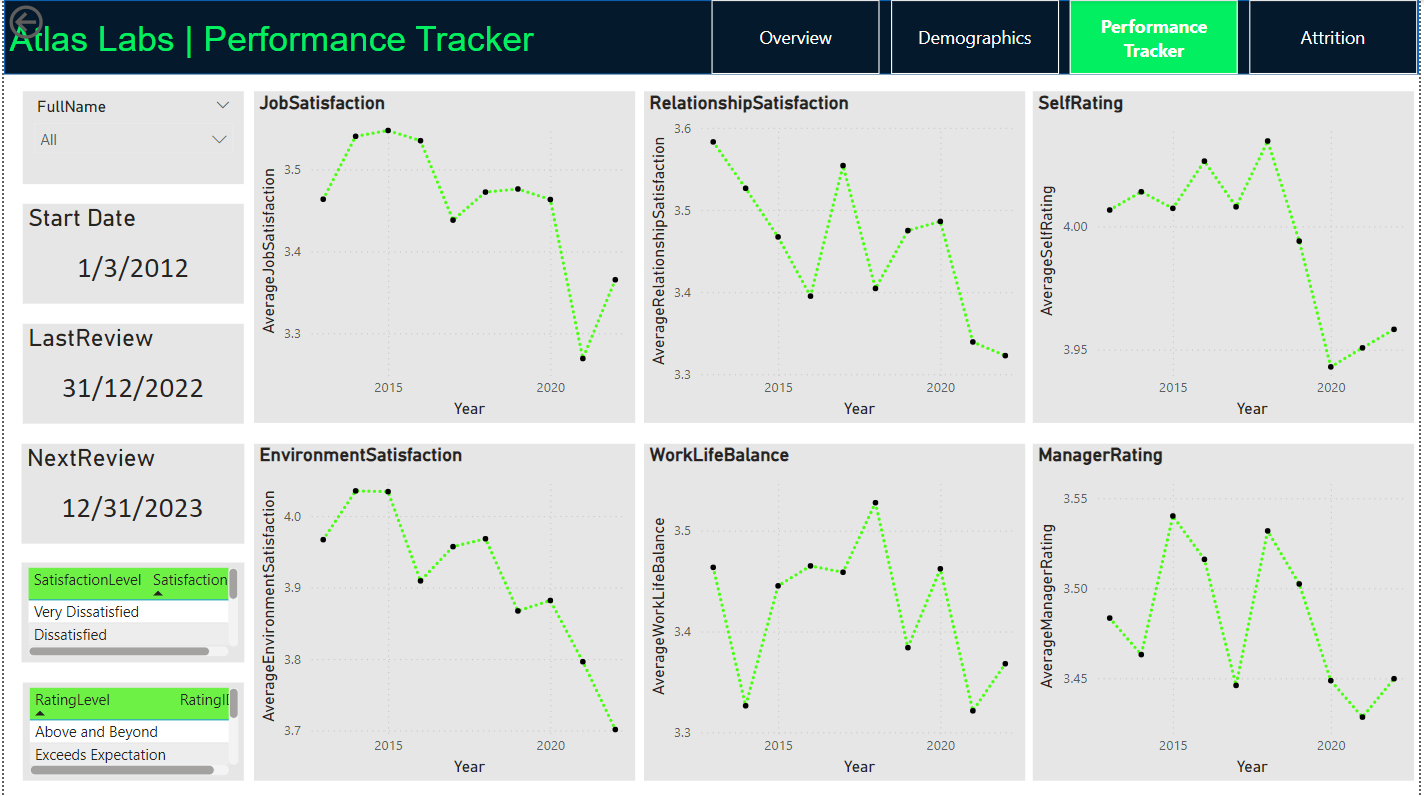

What the dashboard file says about the page in this screenshot:
{"tool":"powerbi","page":{"name":"Performance Tracker","canvas":[1280,720],"ordinal":2},"visuals":[{"type":"shape","box":[0,0,1280,67.5],"z":0},{"type":"textbox","box":[0,12.5,581.2,55],"z":1000},{"type":"pageNavigator","box":[640,0,640,67.5],"z":2000},{"type":"slicer","fields":{"Values":["Employee.FullName"]},"box":[17.5,82.5,200,83.8],"z":3000},{"type":"card","title":"Start Date","fields":{"Values":["Min(Employee.HireDate)"]},"box":[17.5,184.5,200,90],"z":4000},{"type":"card","title":"LastReview","fields":{"Values":["FactPerformanceRating.LastReviewDate"]},"box":[17.5,292.8,200,90],"z":5000},{"type":"actionButton","box":[0,0,100,40],"z":6000},{"type":"card","title":"NextReview","fields":{"Values":["FactPerformanceRating.NextReview"]},"box":[16.2,401,201.2,90],"z":7000},{"type":"lineChart","title":"JobSatisfaction ","fields":{"Y":["FactPerformanceRating.AverageJobSatisfaction"],"Category":["Date.Date.Variation.Date Hierarchy.Year"]},"box":[226.2,82.5,345,300],"z":8000},{"type":"lineChart","title":"RelationshipSatisfaction","fields":{"Category":["Date.Date.Variation.Date Hierarchy.Year"],"Y":["FactPerformanceRating.AverageRelationshipSatisfaction"]},"box":[578.8,82.5,345,300],"z":9000},{"type":"lineChart","title":"SelfRating","fields":{"Category":["Date.Date.Variation.Date Hierarchy.Year"],"Y":["FactPerformanceRating.AverageSelfRating"]},"box":[930,82.5,345,300],"z":10000},{"type":"lineChart","title":"EnvironmentSatisfaction","fields":{"Category":["Date.Date.Variation.Date Hierarchy.Year"],"Y":["FactPerformanceRating.AverageEnvironmentSatisfaction"]},"box":[226.2,401.2,345,305],"z":11000},{"type":"lineChart","title":"WorkLifeBalance","fields":{"Category":["Date.Date.Variation.Date Hierarchy.Year"],"Y":["FactPerformanceRating.AverageWorkLifeBalance"]},"box":[578.8,401.2,345,305],"z":12000},{"type":"lineChart","title":"ManagerRating","fields":{"Category":["Date.Date.Variation.Date Hierarchy.Year"],"Y":["FactPerformanceRating.AverageManagerRating"]},"box":[930,401.2,345,305],"z":13000},{"type":"tableEx","fields":{"Values":["SatisfiedLevel.SatisfactionLevel","SatisfiedLevel.SatisfactionID"]},"box":[16.2,509.2,201.2,90],"z":14000},{"type":"tableEx","fields":{"Values":["RatingLevel.RatingLevel","RatingLevel.RatingID"]},"box":[17.5,617.5,200,88.8],"z":15000}]}

Visuals, with their boxes in screenshot pixels (x1, y1, x2, y2), scaled from the page's 1280x720 canvas onto the 1424x796 screenshot:
shape: <box>0,0,1423,75</box>
textbox: <box>0,14,647,75</box>
pageNavigator: <box>712,0,1423,75</box>
slicer - Employee.FullName: <box>19,91,242,184</box>
"Start Date" card: <box>19,204,242,303</box>
"LastReview" card: <box>19,324,242,423</box>
actionButton: <box>0,0,111,44</box>
"NextReview" card: <box>18,443,242,543</box>
"JobSatisfaction " lineChart: <box>252,91,635,423</box>
"RelationshipSatisfaction" lineChart: <box>644,91,1028,423</box>
"SelfRating" lineChart: <box>1035,91,1418,423</box>
"EnvironmentSatisfaction" lineChart: <box>252,444,635,781</box>
"WorkLifeBalance" lineChart: <box>644,444,1028,781</box>
"ManagerRating" lineChart: <box>1035,444,1418,781</box>
tableEx - SatisfiedLevel.SatisfactionLevel x SatisfiedLevel.SatisfactionID: <box>18,563,242,662</box>
tableEx - RatingLevel.RatingLevel x RatingLevel.RatingID: <box>19,683,242,781</box>
